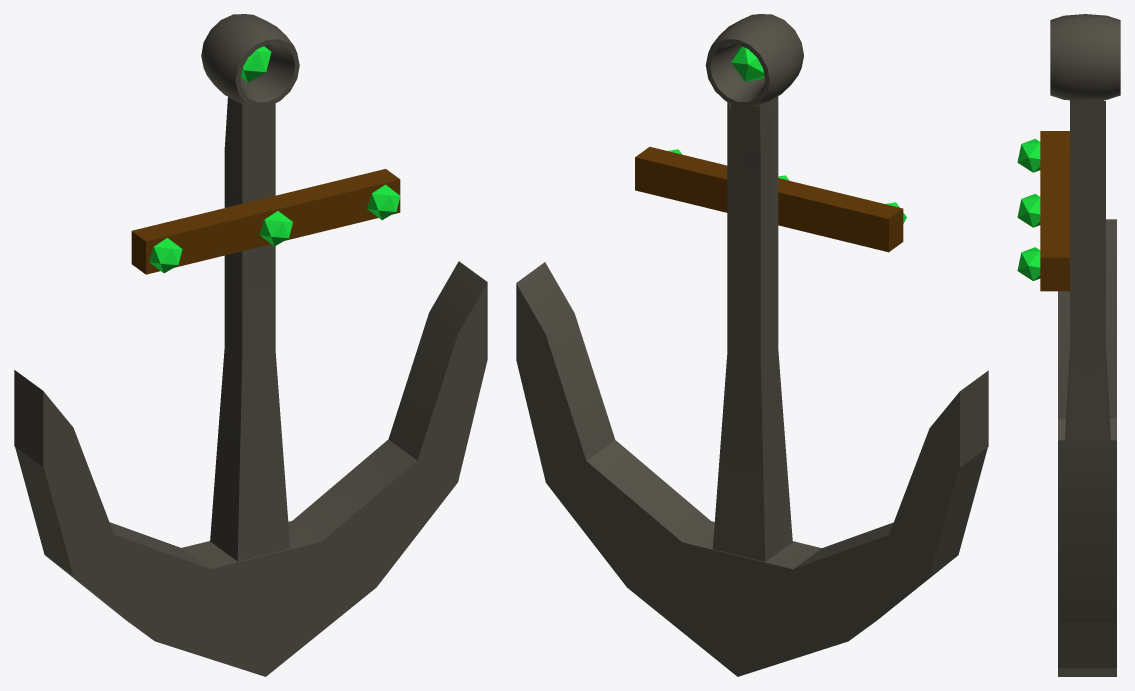
File: ancora.fbx
3 views of the same model, side by side, from view 1: azimuth 30°, elevation 25°; view 2: azimuth 150°, elevation 25°; view 3: azimuth 270°, elevation 25° (orthographic). The views are drawn at different scales.
Parts seen in each view (by area): view 1: Torus, Cube; view 2: Torus, Cube; view 3: Torus, Cube.
Part boxes in pixels (left/top/right/bottom): Torus: left=14, top=14, right=487, bottom=676; Cube: left=131, top=169, right=400, bottom=274; Torus: left=516, top=14, right=988, bottom=676; Cube: left=635, top=146, right=903, bottom=252; Torus: left=1017, top=14, right=1120, bottom=676; Cube: left=1040, top=131, right=1069, bottom=291.
Bounding box in the file's own units: 311 × 432 × 61.31.
